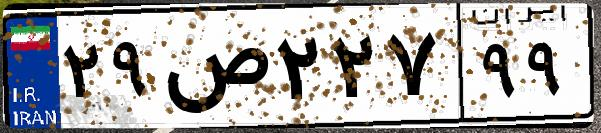2: (270, 28, 330, 110), (330, 28, 385, 110), (57, 26, 110, 100)
7: (385, 28, 445, 110)
9: (475, 38, 525, 113), (525, 38, 570, 115), (110, 28, 158, 98)
ص: (158, 20, 270, 120)
